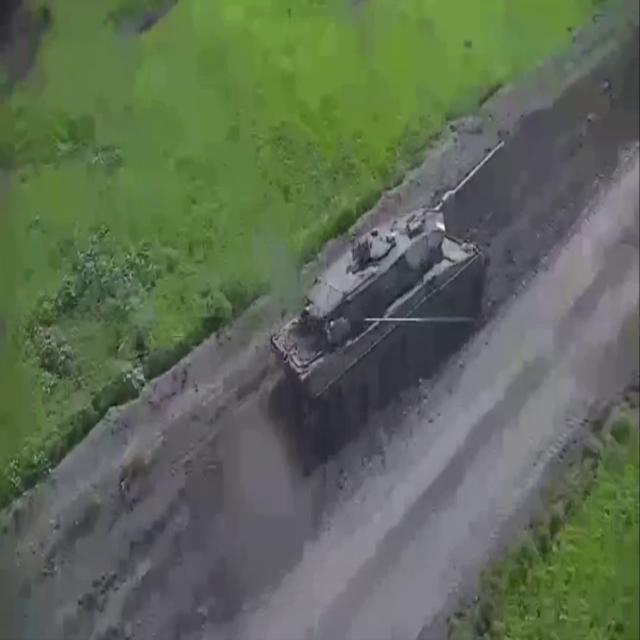MBT: (271, 135, 507, 471)
